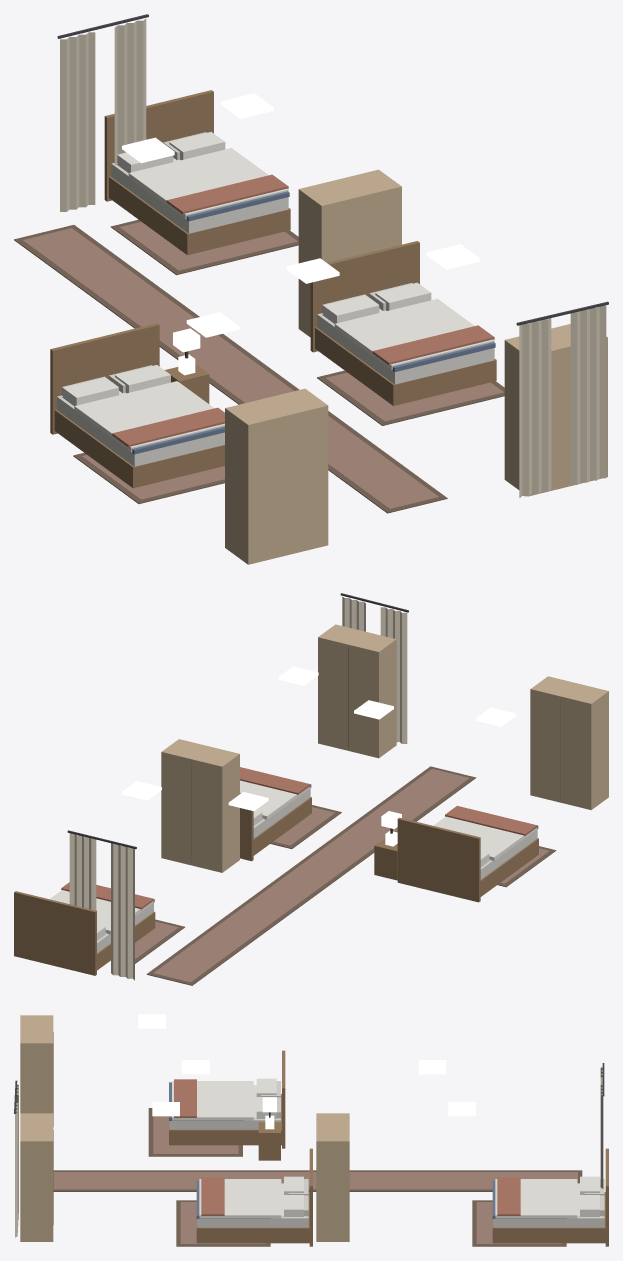
Rendered from fine-s3.glb.
3 renders of one model, top to bottom at view 1: azimuth 30°, elevation 25°; view 2: azimuth 150°, elevation 25°; view 3: azimuth 270°, elevation 25°, orthographic. The views are drawn at different scales.
Parts seen in each view (by area): view 1: soft-s3, dresser.006, bed-frame.008, bed-frame.006, bed-frame.007, dresser.007, dresser.008, nightstand.002, ceiling-lamp.014, ceiling-lamp.013, ceiling-lamp.012, ceiling-lamp.016 (+1 smaller); view 2: soft-s3, dresser.006, dresser.007, dresser.008, bed-frame.006, bed-frame.007, bed-frame.008, nightstand.002; view 3: soft-s3, dresser.007, dresser.008, bed-frame.008, bed-frame.007, dresser.006, bed-frame.006, nightstand.002, ceiling-lamp.013, ceiling-lamp.012, ceiling-lamp.014, ceiling-lamp.015 (+1 smaller).
Boxes of the visible parts, box(x1,y1,x2,y2) form: soft-s3: box(14, 14, 608, 513); dresser.006: box(225, 388, 328, 564); bed-frame.008: box(310, 241, 496, 405); bed-frame.006: box(50, 323, 224, 488); bed-frame.007: box(104, 90, 290, 255); dresser.007: box(298, 169, 401, 337); dresser.008: box(504, 324, 607, 496); nightstand.002: box(164, 354, 209, 403); ceiling-lamp.014: box(186, 312, 239, 337); ceiling-lamp.013: box(287, 258, 339, 283); ceiling-lamp.012: box(122, 137, 174, 163); ceiling-lamp.016: box(427, 244, 479, 269); soft-s3: box(50, 593, 556, 985); dresser.006: box(530, 676, 608, 809); dresser.007: box(161, 739, 239, 872); dresser.008: box(318, 624, 396, 758); bed-frame.006: box(397, 817, 538, 902); bed-frame.007: box(14, 891, 155, 975); bed-frame.008: box(240, 784, 311, 861); nightstand.002: box(374, 831, 397, 880); soft-s3: box(14, 1063, 604, 1246); dresser.007: box(316, 1113, 349, 1241); dresser.008: box(20, 1113, 53, 1241); bed-frame.008: box(196, 1148, 312, 1246); bed-frame.007: box(492, 1148, 608, 1246); dresser.006: box(20, 1015, 53, 1126); bed-frame.006: box(169, 1050, 285, 1148); nightstand.002: box(258, 1115, 280, 1160); ceiling-lamp.013: box(181, 1060, 209, 1074); ceiling-lamp.012: box(418, 1060, 446, 1074); ceiling-lamp.014: box(138, 1014, 165, 1028); ceiling-lamp.015: box(448, 1102, 475, 1116).
Bounding box in the file's own units: 5.89 × 2.56 × 10.74.
